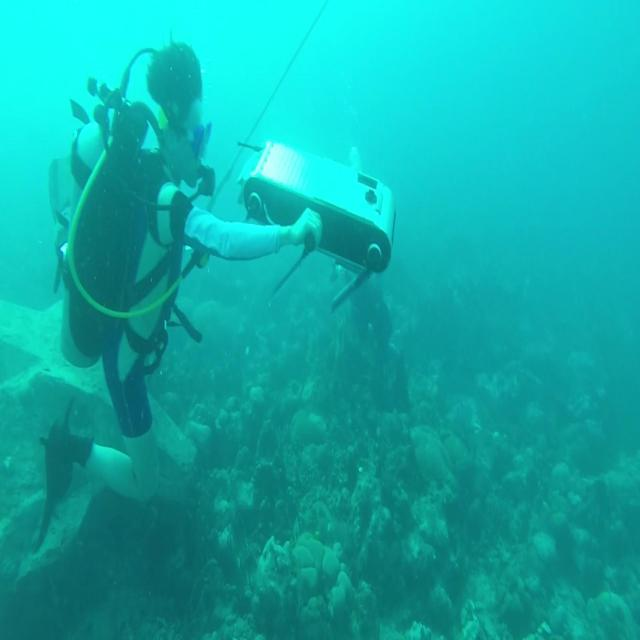human: (33, 36, 323, 552)
